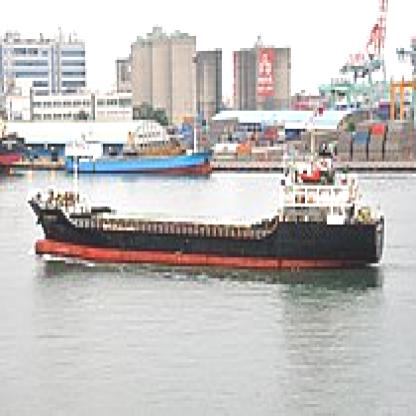Tanker: (38, 156, 388, 272)
